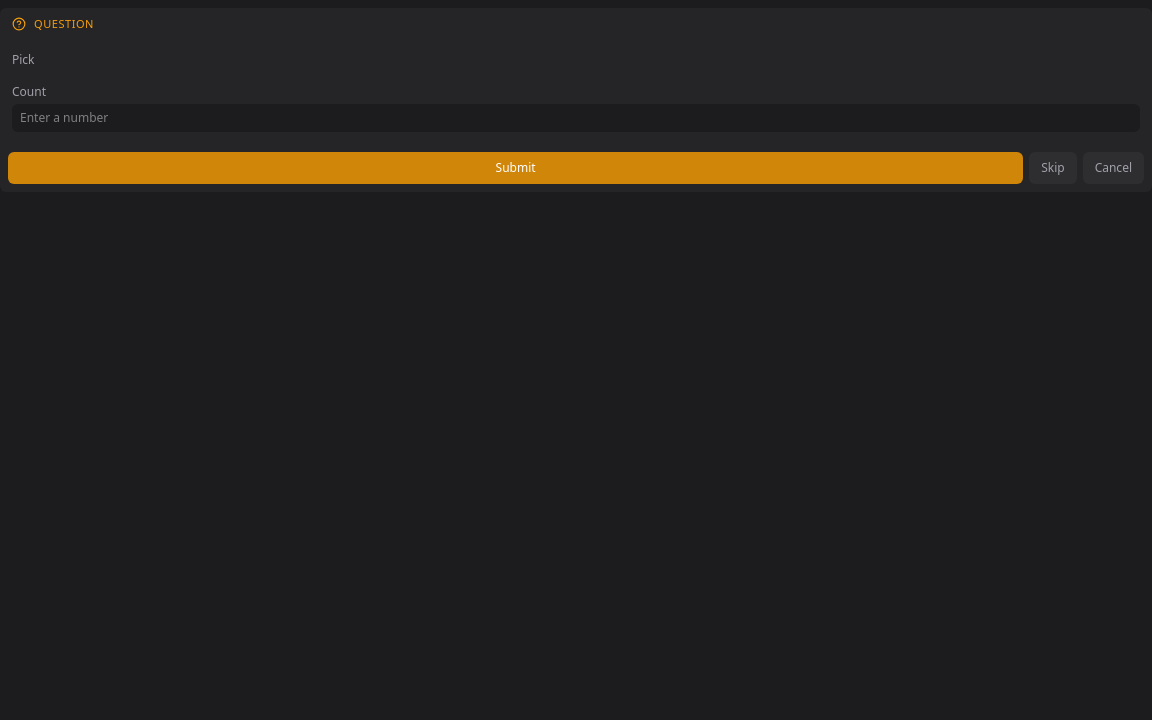
it: AskUserQuestionCard extended field kinds › rejects a fractional value for an integer field
Type "3.5" into the number field with placeholder "Enter a number" at (576, 118), box top-left (12, 104), bottom-right (1140, 132)
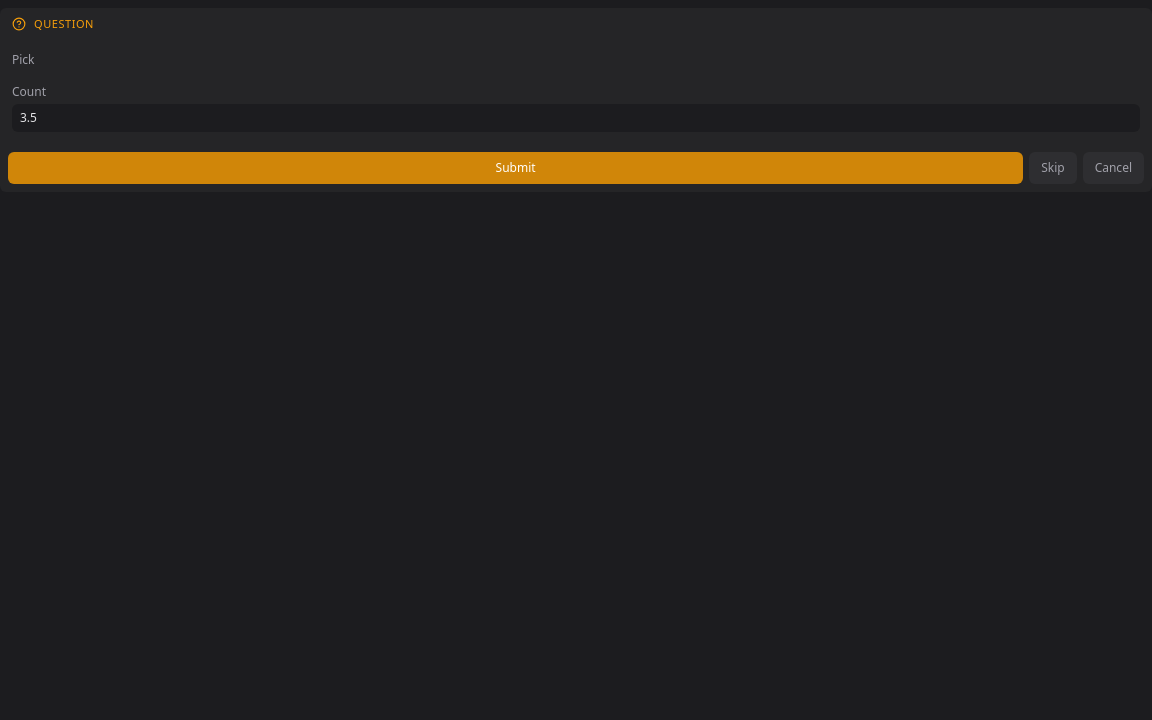
Click the button "Submit" at (516, 168), box top-left (8, 152), bottom-right (1023, 184)
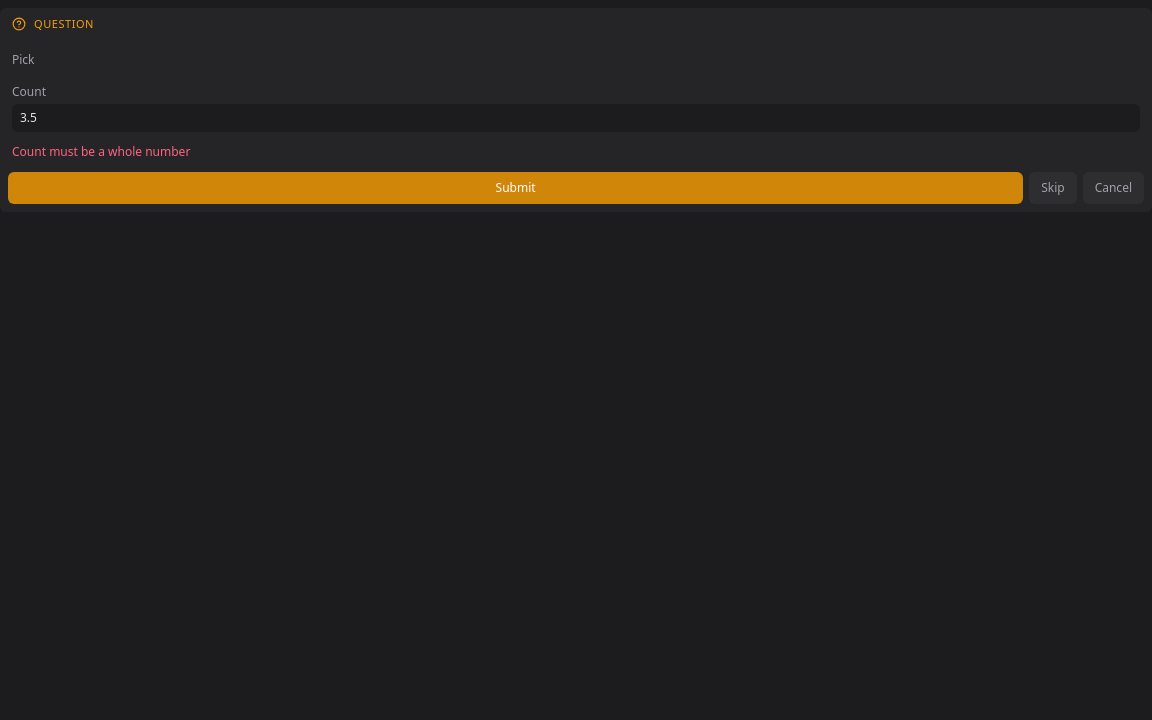
expect the text "Count must be a whole number" is shown: met, box top-left (12, 143), bottom-right (190, 160)
